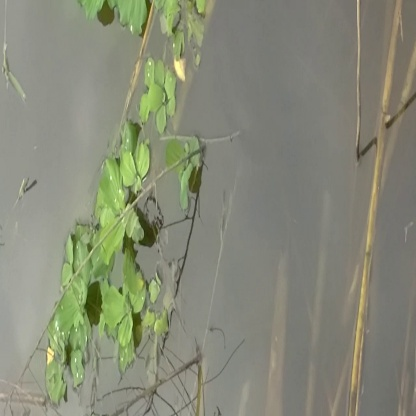branch: (337, 4, 403, 408)
